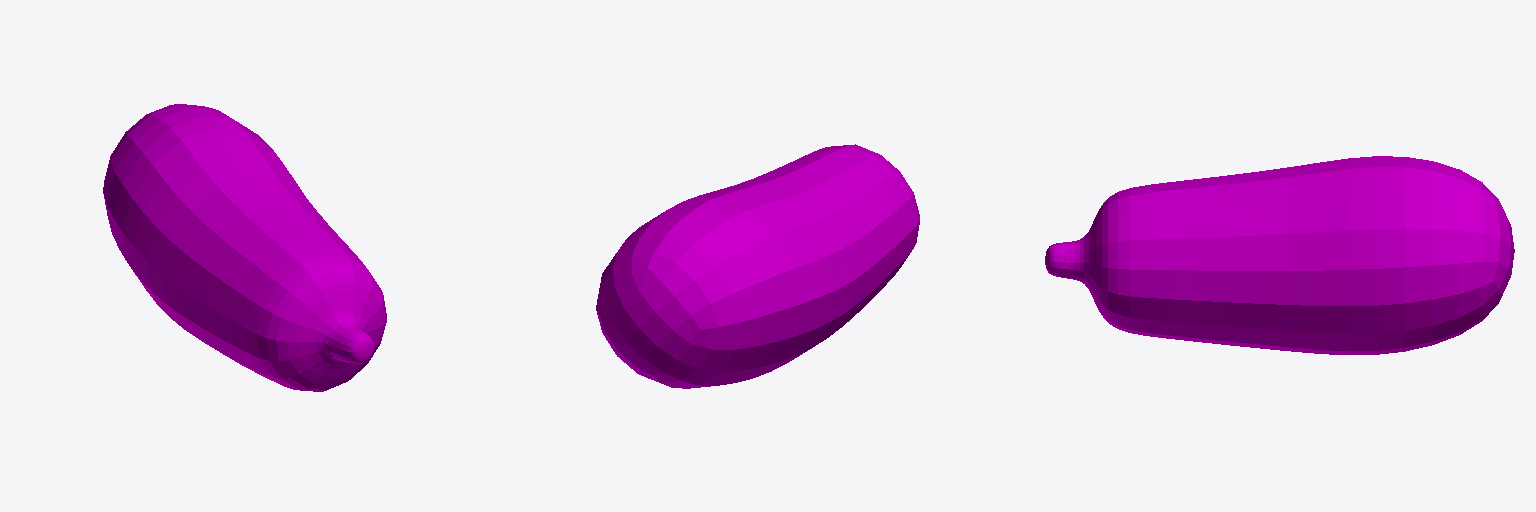
Rendered from eggplant_body.obj.
3 views of the same model, side by side, from view 1: azimuth 30°, elevation 25°; view 2: azimuth 150°, elevation 25°; view 3: azimuth 270°, elevation 25° (orthographic).
Visible parts, largest first — view 1: eggplant; view 2: eggplant; view 3: eggplant.
Boxes of the visible parts, box(x1,y1,x2,y2) form: eggplant: box(103, 104, 386, 391); eggplant: box(596, 144, 919, 388); eggplant: box(1045, 156, 1514, 354).
Size of the model in its own units: 2.28 by 2.27 by 5.21.